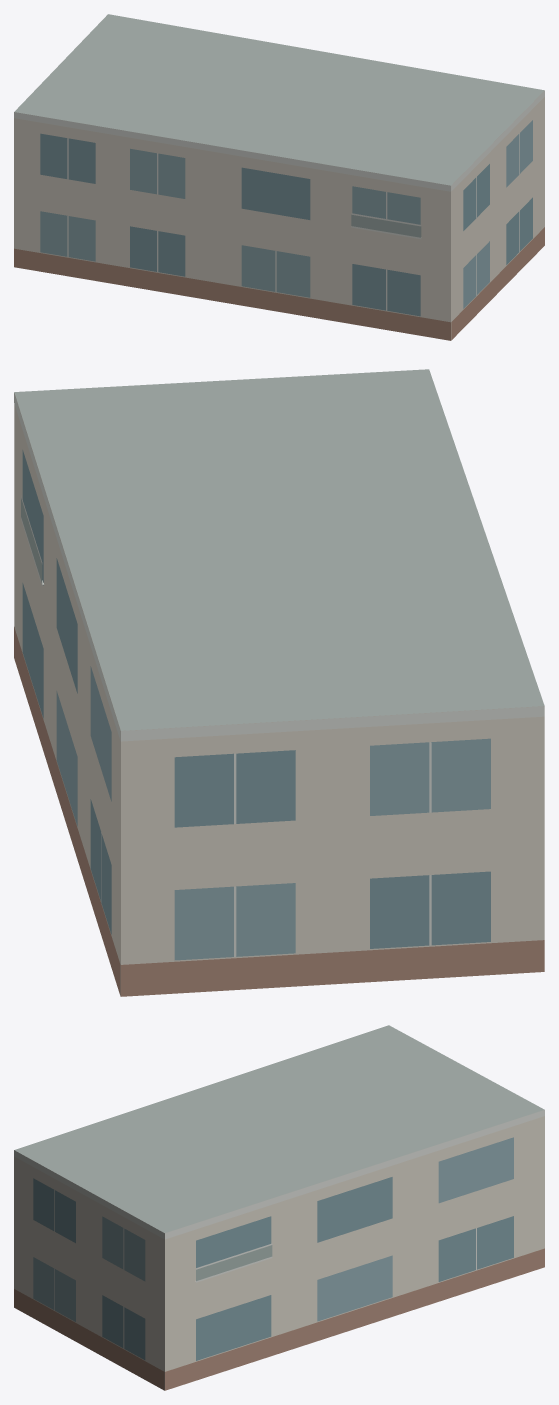
The model's file is survey-upis-32687946.glb.
The picture shows the model from 3 angles, top to bottom: view 1: azimuth 30°, elevation 25°; view 2: azimuth 150°, elevation 25°; view 3: azimuth 270°, elevation 25°; orthographic projection. The views are drawn at different scales.
Parts seen in each view (by area): view 1: survey-upis-32687946.tmp; view 2: survey-upis-32687946.tmp; view 3: survey-upis-32687946.tmp.
Boxes of the visible parts, bbox=[...] form: survey-upis-32687946.tmp: bbox=[14, 14, 544, 340]; survey-upis-32687946.tmp: bbox=[14, 369, 544, 996]; survey-upis-32687946.tmp: bbox=[14, 1025, 544, 1390].
Bounding box in the file's own units: 17.29 × 6.1 × 18.64.
